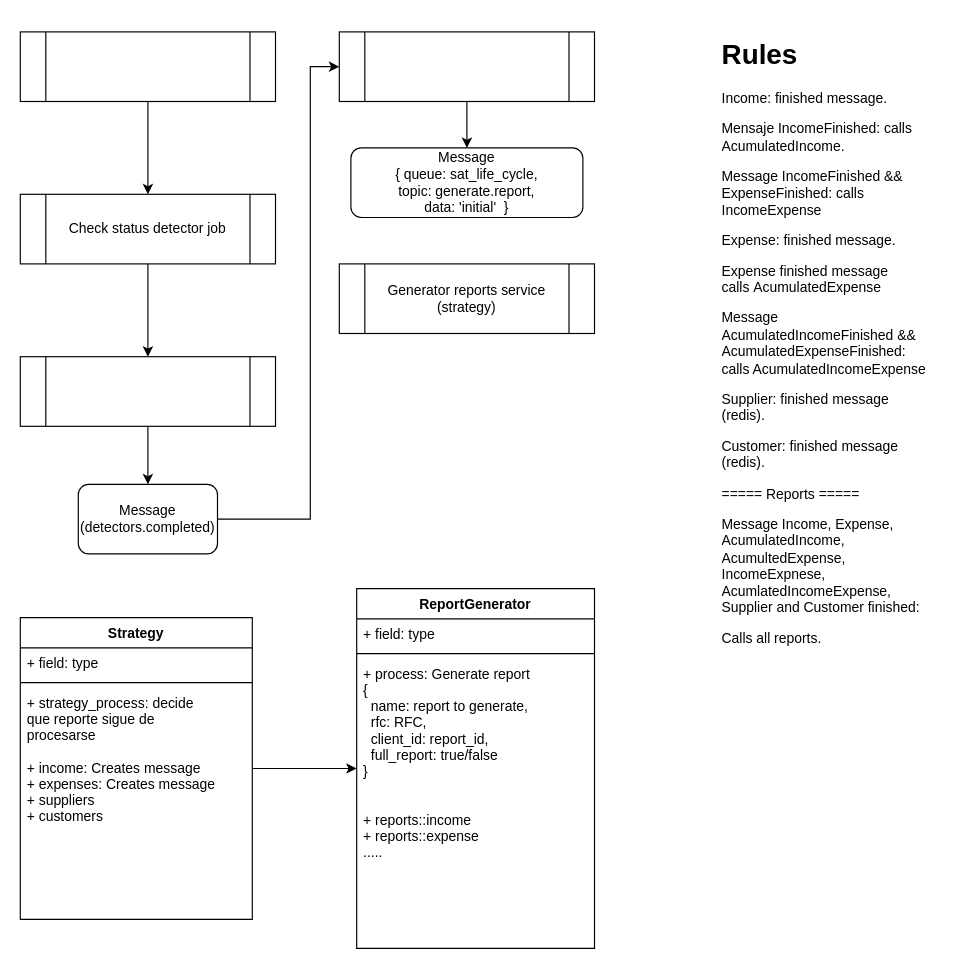
This 957x971 diagram has some shape labels left out. The shapes that lost their labels are listed below. From the top down, each one's centre as x and y in pixels, then its label:
the point at 147,66: Invoice complete service
the point at 466,66: Detector completed subscriber
the point at 147,391: Status detector service
